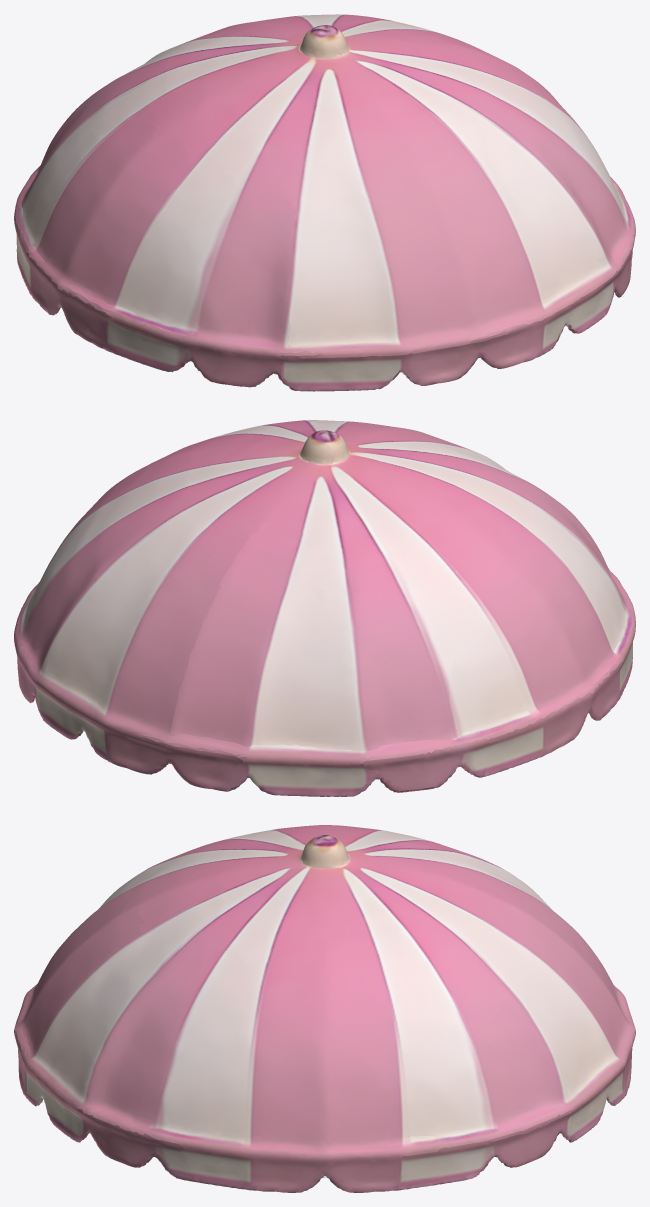
File: parasol_v2.glb
The picture shows the model from 3 angles, top to bottom: view 1: azimuth 30°, elevation 25°; view 2: azimuth 150°, elevation 25°; view 3: azimuth 270°, elevation 25°; orthographic projection.
Parts seen in each view (by area): view 1: tmperjqyyo9.ply; view 2: tmperjqyyo9.ply; view 3: tmperjqyyo9.ply.
Part boxes in pixels (box(x1,y1,x2,y2)): tmperjqyyo9.ply: box(14, 14, 635, 391); tmperjqyyo9.ply: box(14, 420, 635, 796); tmperjqyyo9.ply: box(14, 825, 635, 1192).
Size of the model in its own units: 0.8156 by 0.5017 by 0.8363.
1 material, 1 textured.
